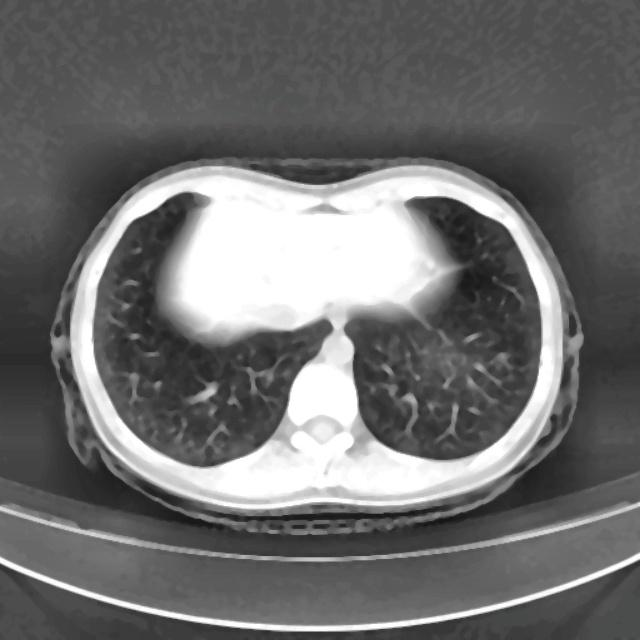covid: (49, 154, 584, 535)
